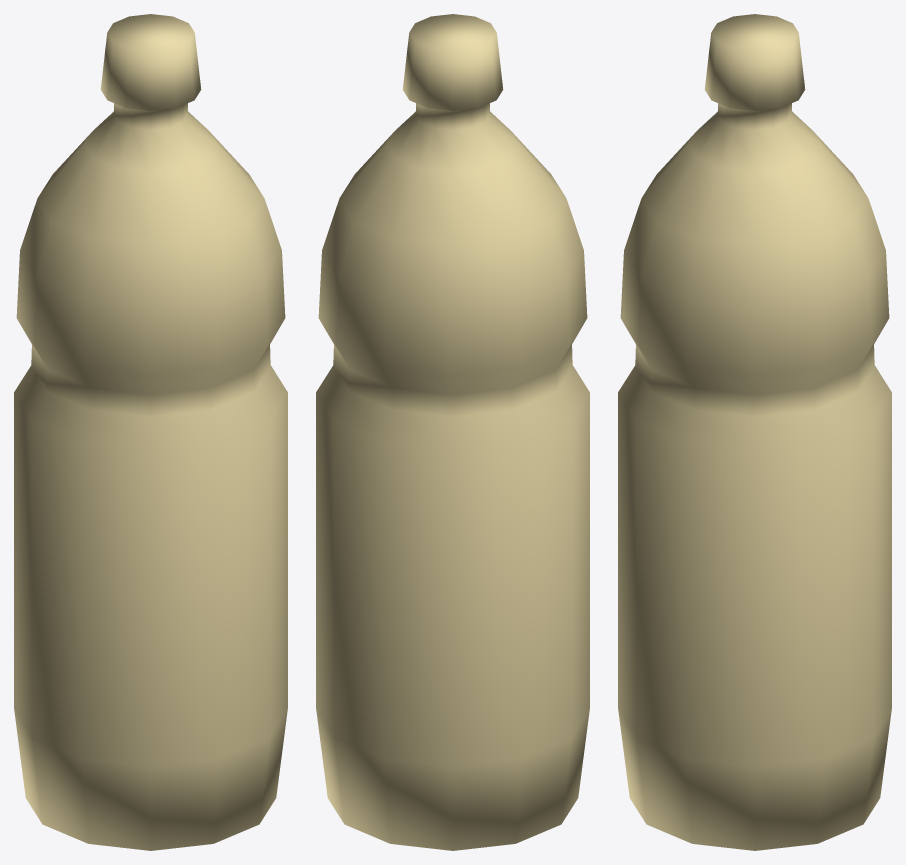
The model's file is olio_mais.fbx.
3 renders of one model, left to right at view 1: azimuth 30°, elevation 25°; view 2: azimuth 150°, elevation 25°; view 3: azimuth 270°, elevation 25°, orthographic.
Parts seen in each view (by area): view 1: olio_semi_mais; view 2: olio_semi_mais; view 3: olio_semi_mais.
Part boxes in pixels (x1,y1,x2,y2): olio_semi_mais: (14,14,287,850); olio_semi_mais: (316,14,589,850); olio_semi_mais: (618,14,891,850).
Bounding box in the file's own units: 65.63 × 202 × 65.63.
